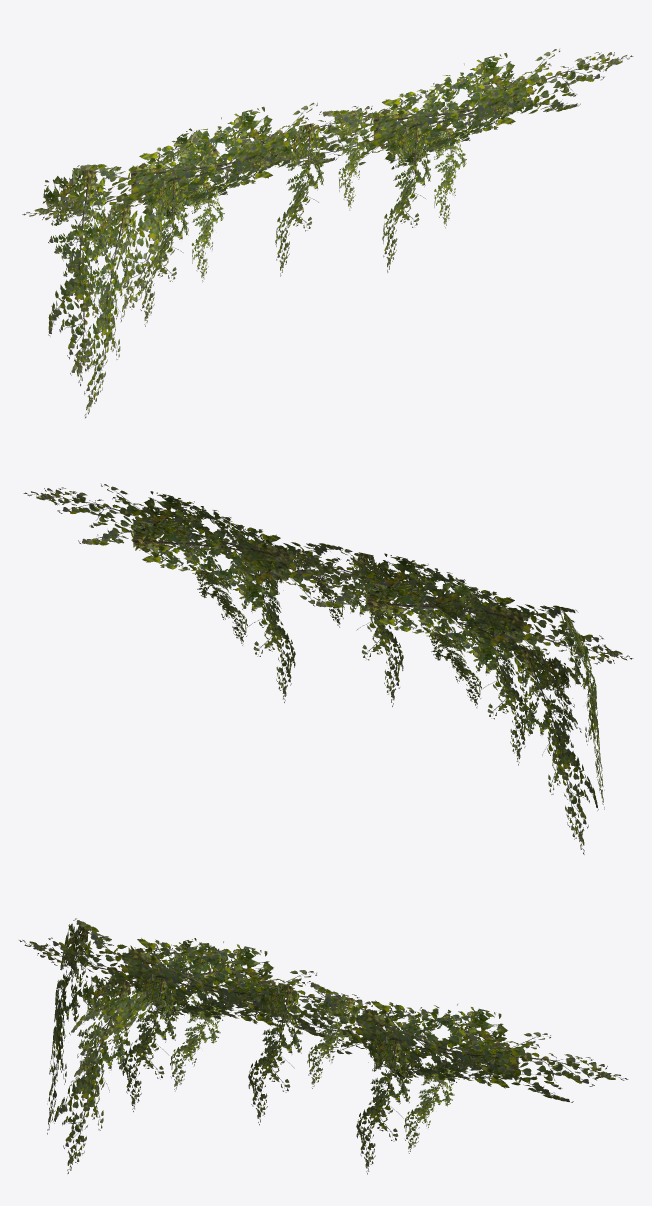
Rendered from ivyC.FBX.
3 views of the same model, one above another, from view 1: azimuth 30°, elevation 25°; view 2: azimuth 150°, elevation 25°; view 3: azimuth 330°, elevation 25° (orthographic).
Visible parts, largest first — view 1: Ivy_Large_001; view 2: Ivy_Large_001; view 3: Ivy_Large_001.
Boxes of the visible parts, bbox=[...] form: Ivy_Large_001: bbox=[22, 49, 633, 418]; Ivy_Large_001: bbox=[23, 484, 633, 854]; Ivy_Large_001: bbox=[19, 918, 628, 1174].
Size of the model in its own units: 9.08 by 3.9 by 1.09.
